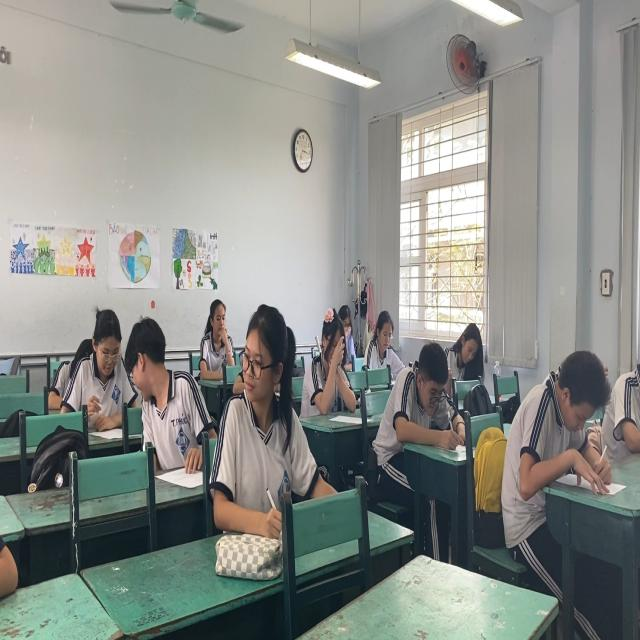cheating: (236, 302, 302, 506), (119, 313, 202, 454)
not_cheating: (506, 344, 607, 498), (68, 281, 124, 420), (382, 334, 455, 436), (302, 305, 360, 413), (194, 296, 240, 378), (358, 309, 399, 371), (443, 323, 486, 374)
